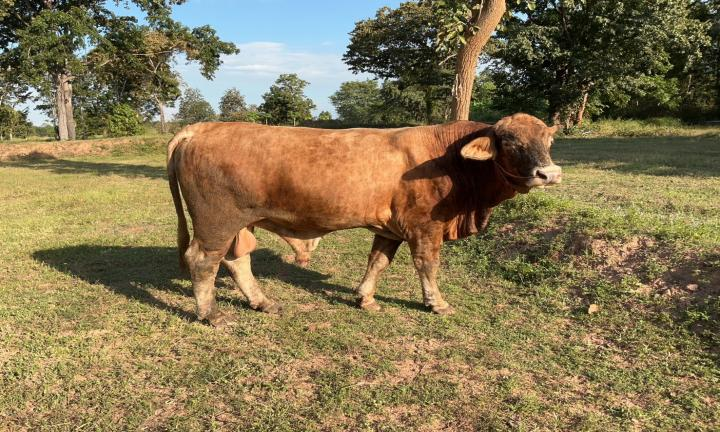Charolais: (167, 113, 561, 326)
